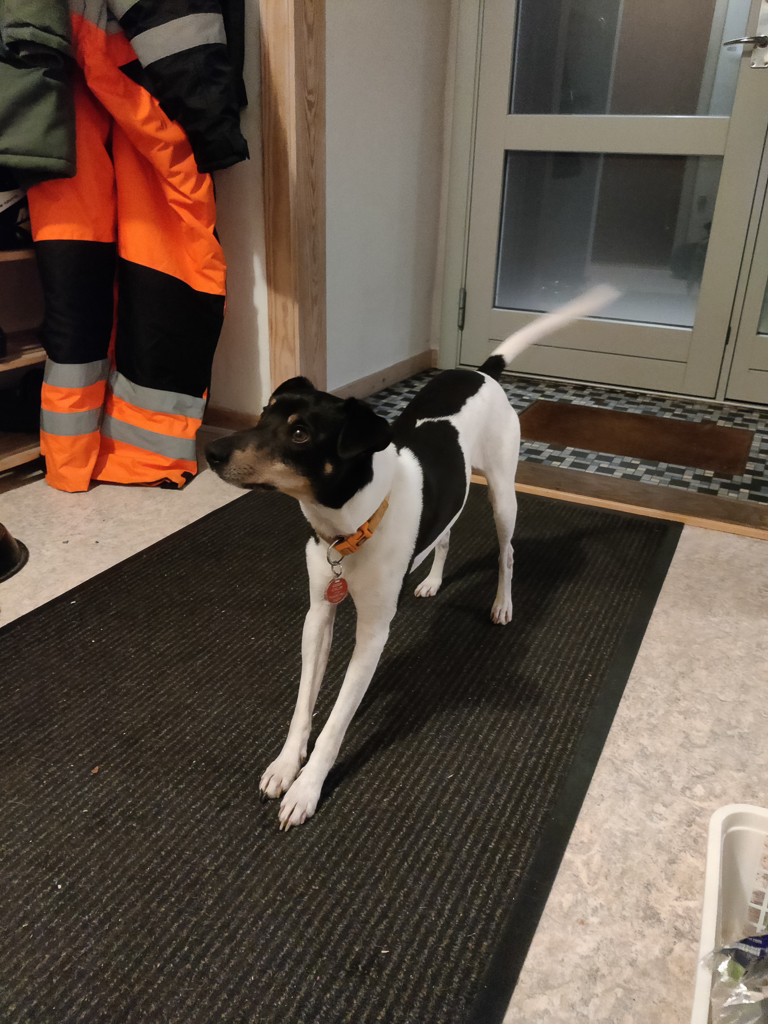Dog: (175, 266, 642, 838)
